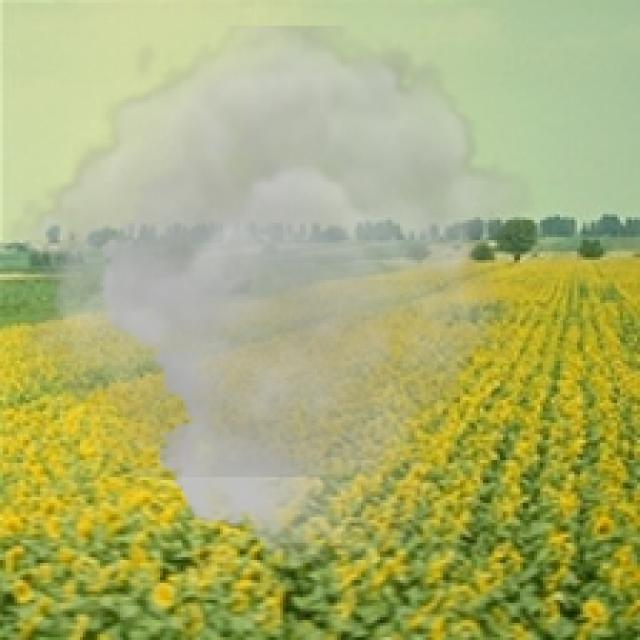Smoke: (2, 26, 534, 568)
